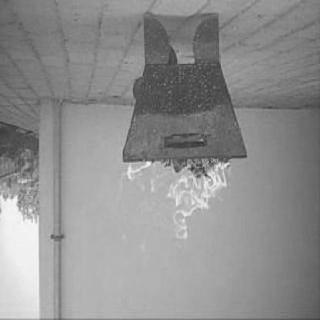Fire: (116, 161, 234, 249)
